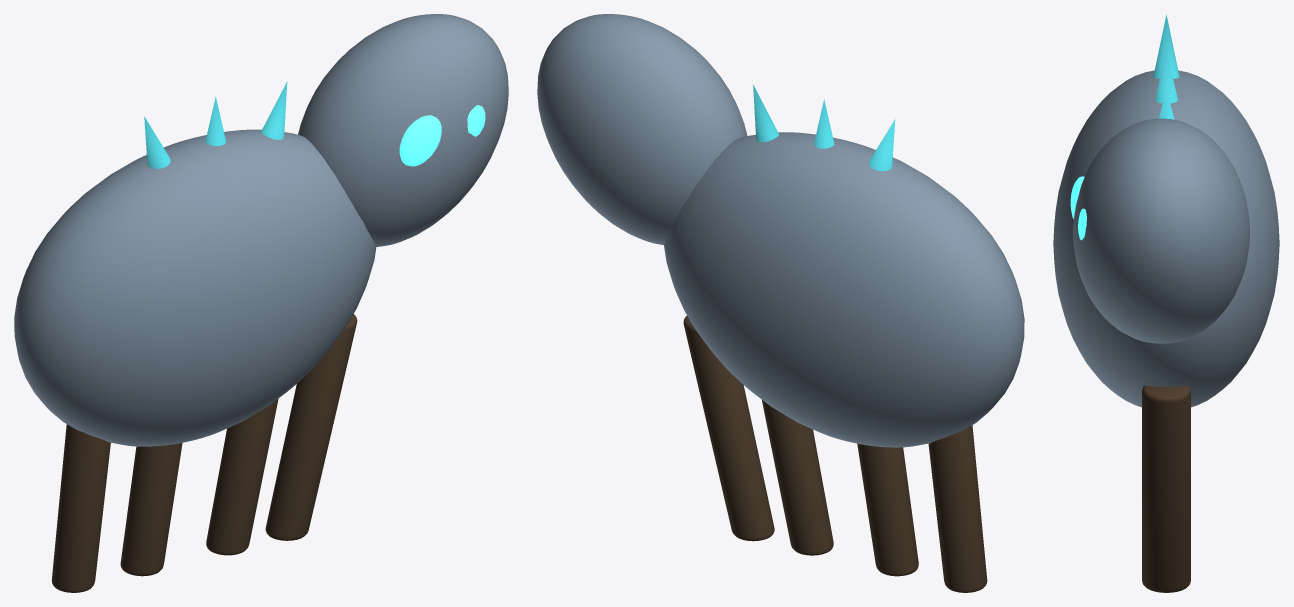
The model's file is quadruped_v4.glb.
3 views of the same model, side by side, from view 1: azimuth 30°, elevation 25°; view 2: azimuth 150°, elevation 25°; view 3: azimuth 270°, elevation 25° (orthographic). The views are drawn at different scales.
Parts seen in each view (by area): view 1: BODY_PRIMARY, HEAD_PRIMARY, LEG_SECONDARY.003, LEG_SECONDARY, LEG_SECONDARY.002, LEG_SECONDARY.001, EYE_EMISSIVE, CROWN_HORN_ACCENT.002, CROWN_HORN_ACCENT; view 2: BODY_PRIMARY, HEAD_PRIMARY, LEG_SECONDARY.003, LEG_SECONDARY, LEG_SECONDARY.002, LEG_SECONDARY.001, CROWN_HORN_ACCENT.002, CROWN_HORN_ACCENT; view 3: HEAD_PRIMARY, BODY_PRIMARY, LEG_SECONDARY.003, CROWN_HORN_ACCENT, CROWN_HORN_ACCENT.001.
Boxes of the visible parts, x1=… form: BODY_PRIMARY: x1=14, y1=129, x2=376, y2=446; HEAD_PRIMARY: x1=298, y1=14, x2=508, y2=246; LEG_SECONDARY.003: x1=265, y1=314, x2=357, y2=540; LEG_SECONDARY: x1=51, y1=424, x2=110, y2=592; LEG_SECONDARY.002: x1=206, y1=398, x2=278, y2=555; LEG_SECONDARY.001: x1=120, y1=443, x2=182, y2=576; EYE_EMISSIVE: x1=399, y1=115, x2=441, y2=166; CROWN_HORN_ACCENT.002: x1=261, y1=81, x2=287, y2=139; CROWN_HORN_ACCENT: x1=144, y1=116, x2=170, y2=168; BODY_PRIMARY: x1=663, y1=132, x2=1024, y2=447; HEAD_PRIMARY: x1=537, y1=14, x2=747, y2=244; LEG_SECONDARY.003: x1=683, y1=315, x2=774, y2=541; LEG_SECONDARY: x1=928, y1=425, x2=987, y2=592; LEG_SECONDARY.002: x1=762, y1=400, x2=833, y2=555; LEG_SECONDARY.001: x1=857, y1=443, x2=918, y2=576; CROWN_HORN_ACCENT.002: x1=753, y1=84, x2=779, y2=142; CROWN_HORN_ACCENT: x1=869, y1=119, x2=895, y2=171; HEAD_PRIMARY: x1=1073, y1=118, x2=1249, y2=343; BODY_PRIMARY: x1=1053, y1=70, x2=1279, y2=407; LEG_SECONDARY.003: x1=1142, y1=385, x2=1190, y2=592; CROWN_HORN_ACCENT: x1=1153, y1=14, x2=1179, y2=78; CROWN_HORN_ACCENT.001: x1=1155, y1=49, x2=1177, y2=103.
Size of the model in its own units: 2.11 by 2.03 by 0.7912.
